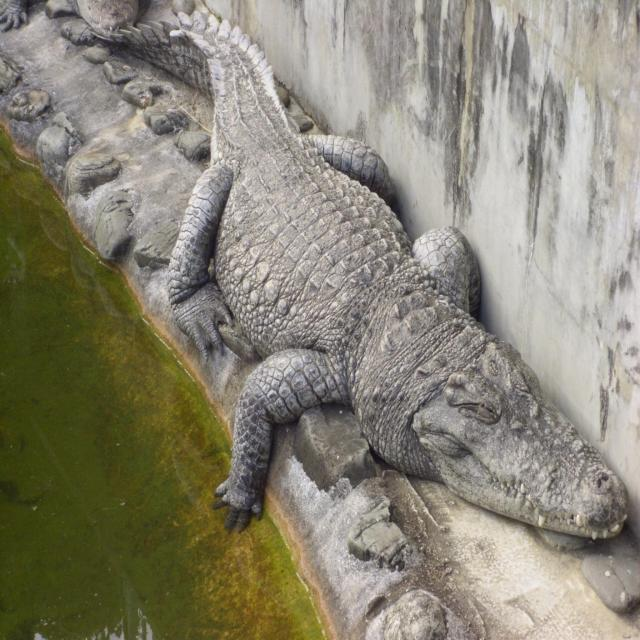crocodile: (105, 0, 631, 544)
